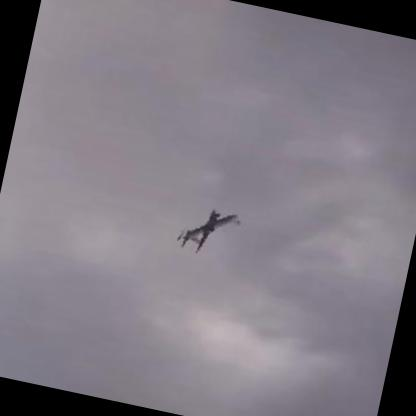plane: (172, 198, 243, 261)
